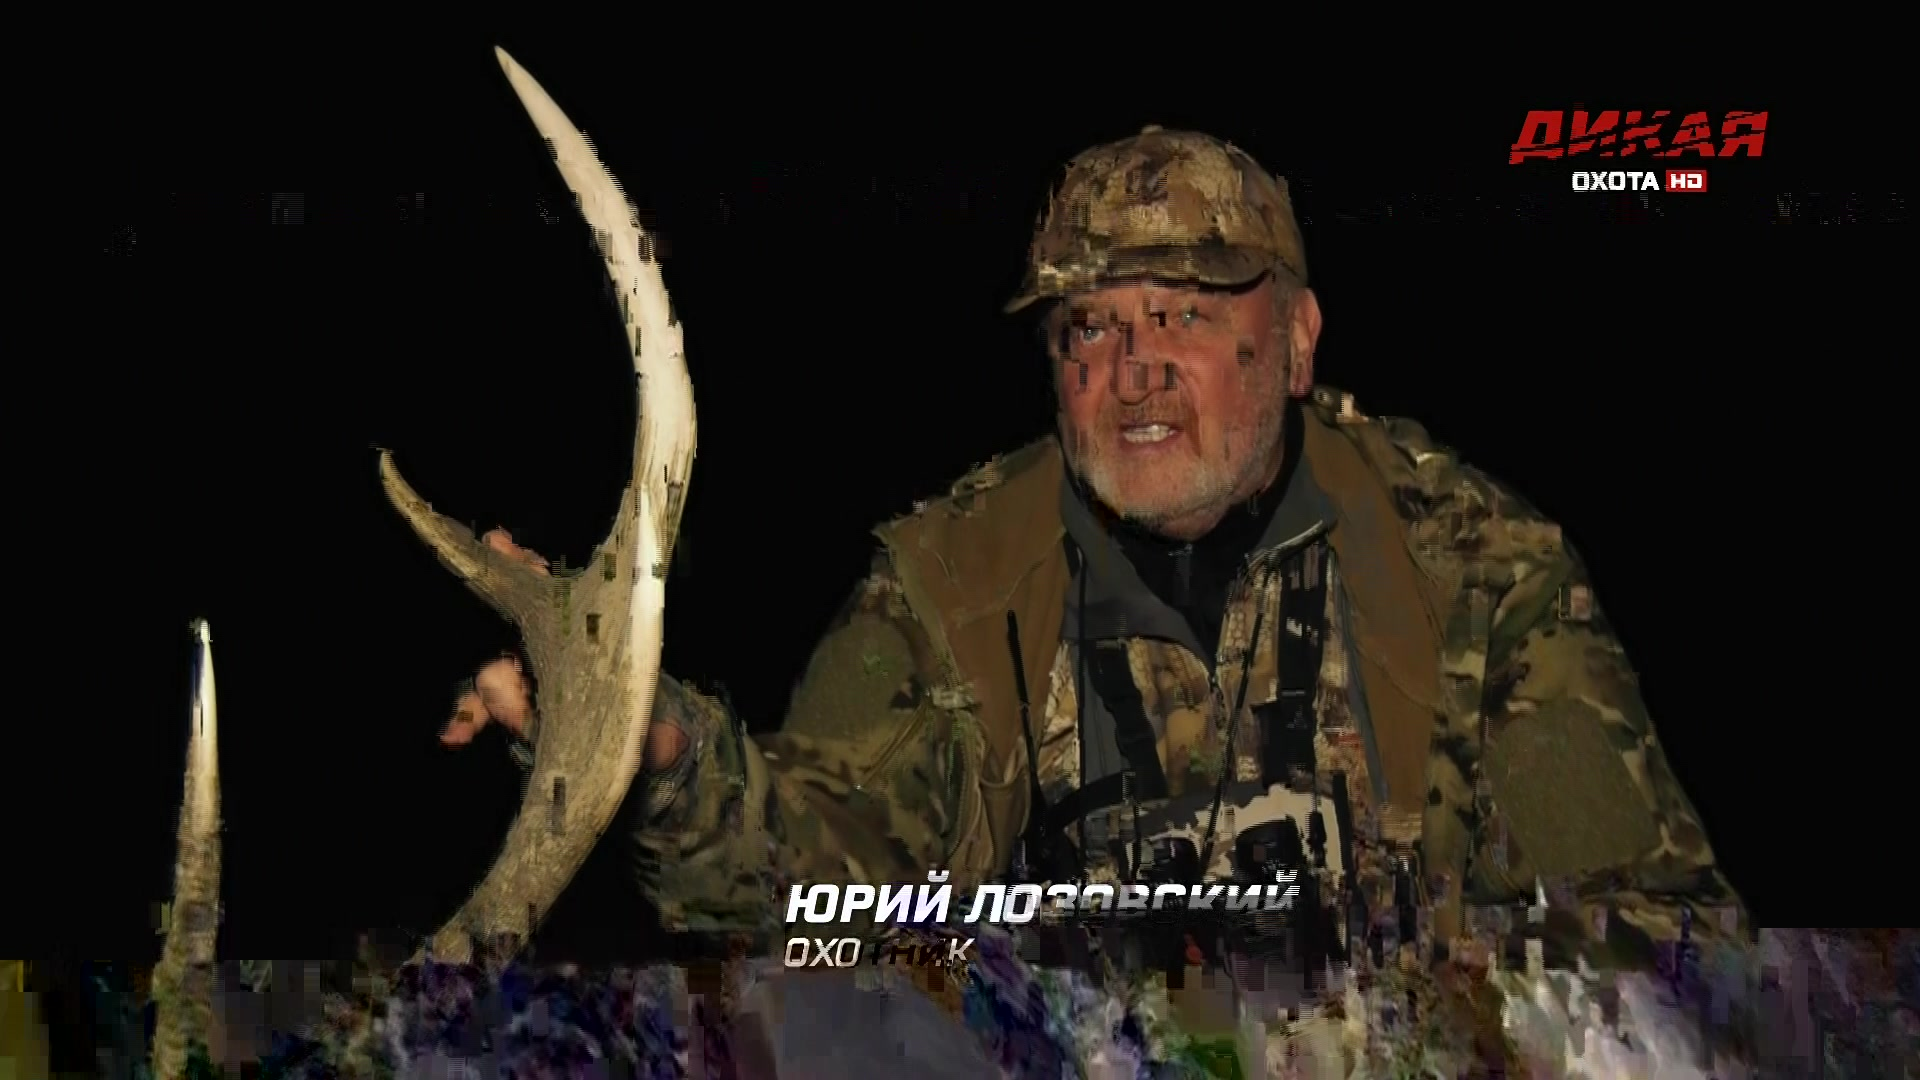Dikaya_Ohota_HD: (1503, 104, 1775, 199)
